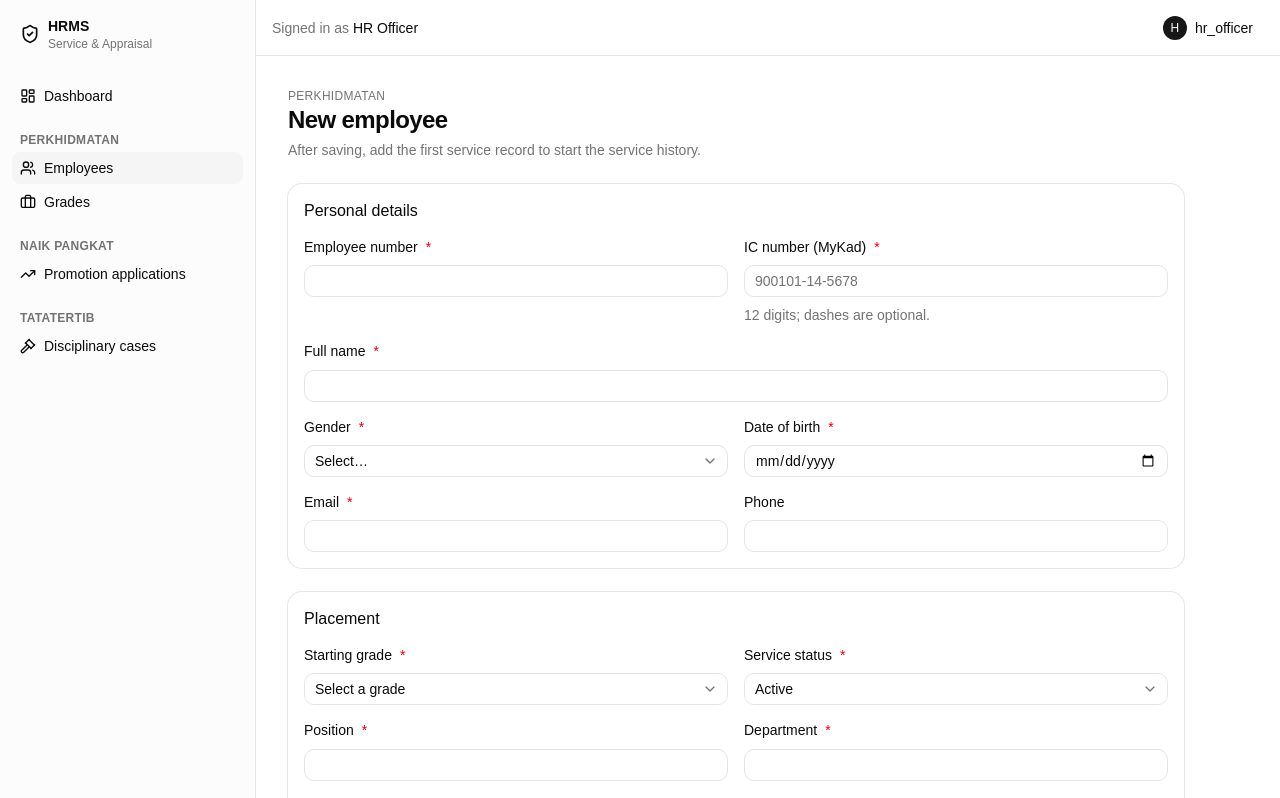
Test: employees › validates the MyKad number before submitting
The image size is (1280, 798).
Type "901301145678" into the field labelled "IC number (MyKad) *". click: (956, 281)
box: [744,265,1168,297]
(page scrolled)
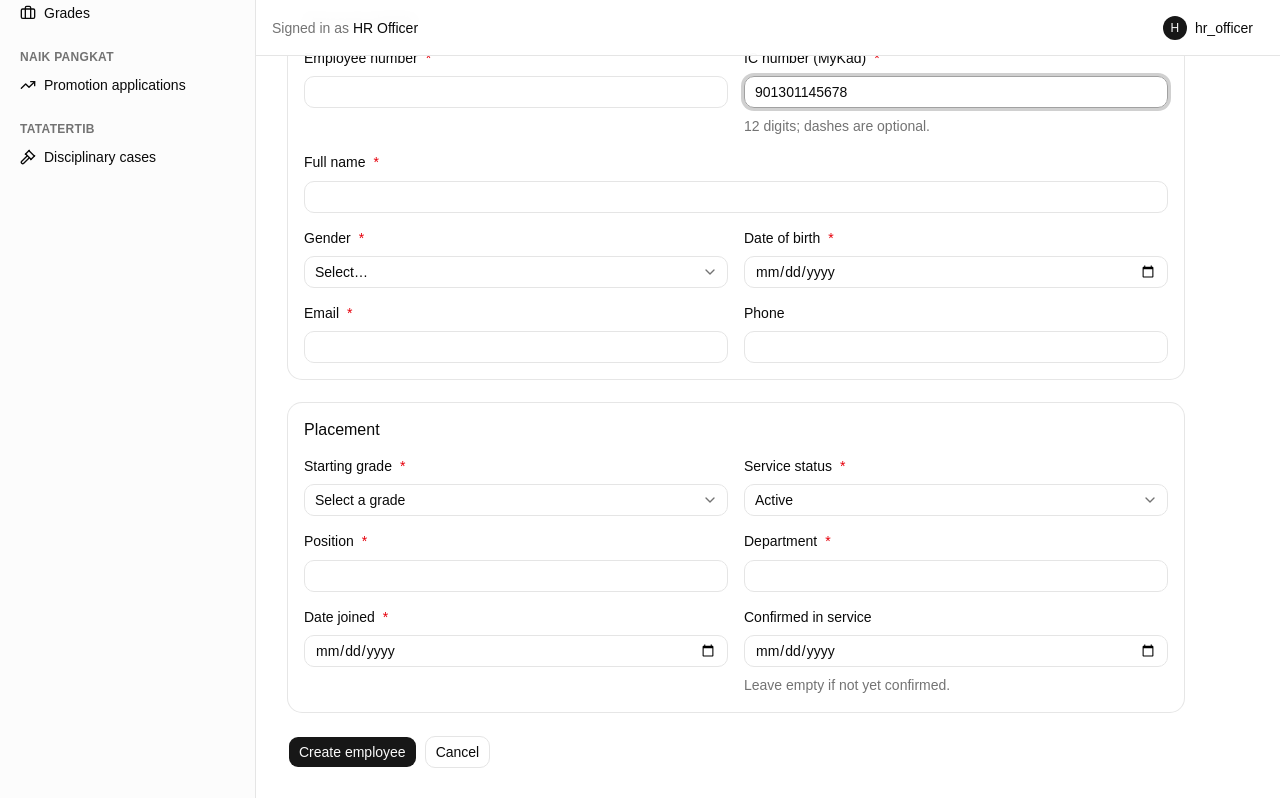
Click the button "Create employee". click: click(352, 752)
box: [288,736,417,768]
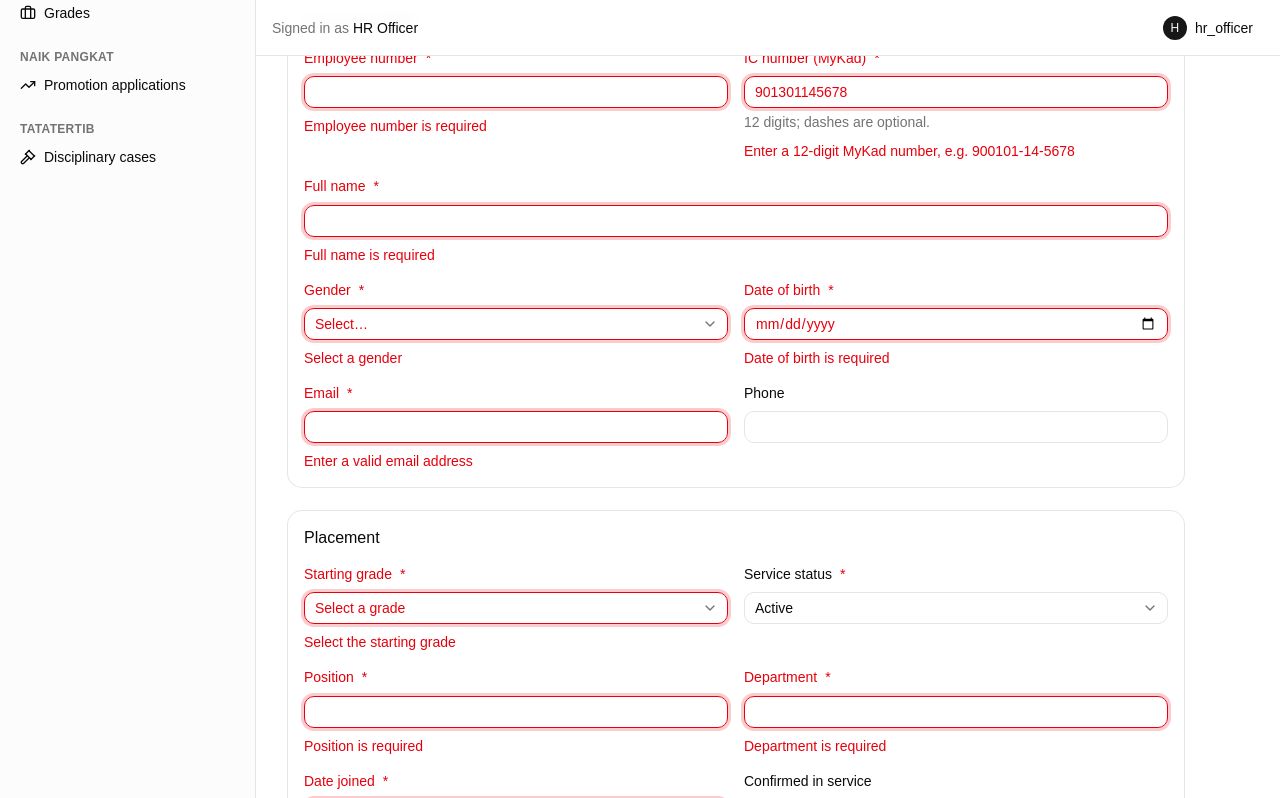
Expected: the text "Enter a 12-digit MyKad number, e.g. 900101-14-5678" is shown, [744,143,1075,159]
